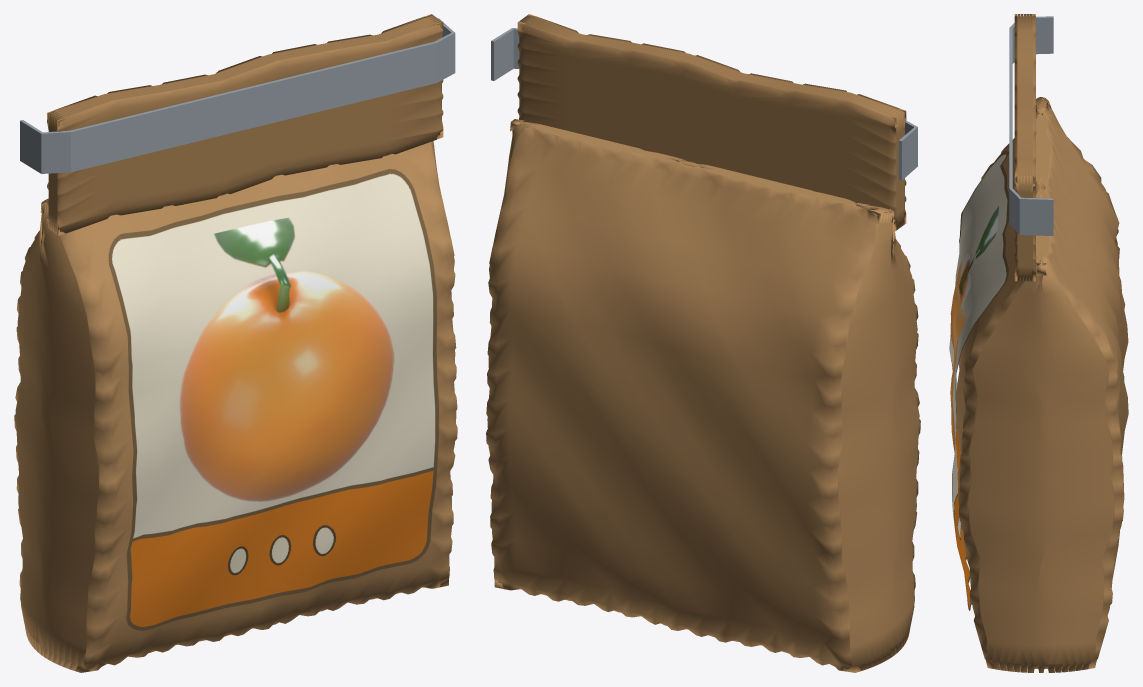
File: orange_seed.glb
The picture shows the model from 3 angles, left to right: view 1: azimuth 30°, elevation 25°; view 2: azimuth 150°, elevation 25°; view 3: azimuth 270°, elevation 25°; orthographic projection. The views are drawn at different scales.
Parts seen in each view (by area): view 1: OrangeSeed_Label, OrangeSeed_Body, OrangeSeed_Fold, OrangeSeed_Tie; view 2: OrangeSeed_Body, OrangeSeed_Fold, OrangeSeed_Tie; view 3: OrangeSeed_Body, OrangeSeed_Label, OrangeSeed_Fold, OrangeSeed_Tie.
Boxes of the visible parts, x1=… form: OrangeSeed_Label: x1=108, y1=169, x2=438, y2=630; OrangeSeed_Body: x1=14, y1=141, x2=457, y2=672; OrangeSeed_Fold: x1=47, y1=14, x2=443, y2=235; OrangeSeed_Tie: x1=20, y1=18, x2=455, y2=173; OrangeSeed_Body: x1=486, y1=119, x2=920, y2=672; OrangeSeed_Fold: x1=517, y1=14, x2=906, y2=231; OrangeSeed_Tie: x1=491, y1=28, x2=917, y2=180; OrangeSeed_Body: x1=956, y1=97, x2=1128, y2=672; OrangeSeed_Label: x1=949, y1=150, x2=1009, y2=610; OrangeSeed_Fold: x1=1014, y1=14, x2=1035, y2=281; OrangeSeed_Tie: x1=1009, y1=16, x2=1053, y2=235.
Bounding box in the file's own units: 0.0917 × 0.1152 × 0.0378.
Materials: 4 (1 with a texture image).
